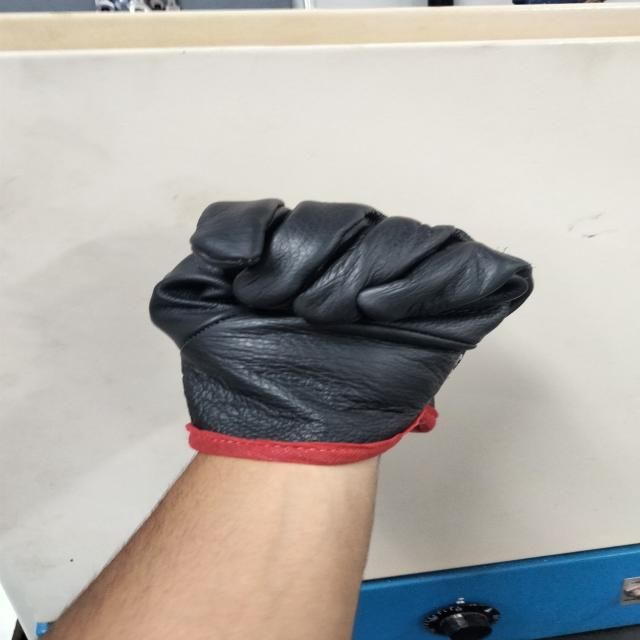Gloves: (140, 200, 526, 466)
